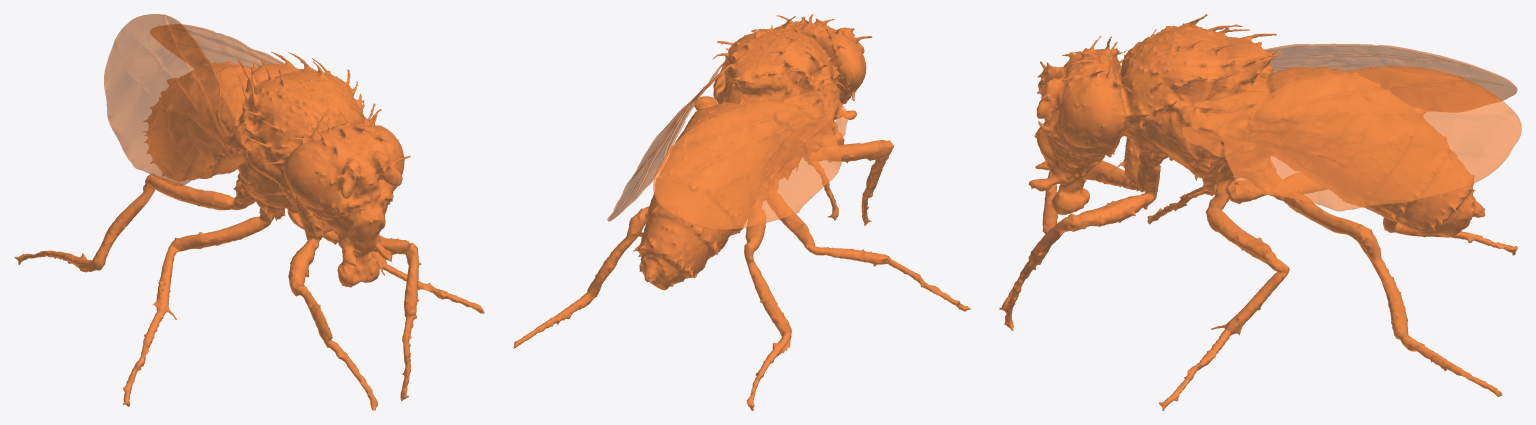
Rendered from fly.glb.
The picture shows the model from 3 angles, left to right: view 1: azimuth 30°, elevation 25°; view 2: azimuth 150°, elevation 25°; view 3: azimuth 270°, elevation 25°; orthographic projection. The views are drawn at different scales.
Visible parts, largest first — view 1: Fly; view 2: Fly; view 3: Fly.
Boxes of the visible parts, box(x1,y1,x2,y2) form: Fly: box(14, 14, 484, 410); Fly: box(513, 14, 970, 410); Fly: box(999, 14, 1521, 410).
Bounding box in the file's own units: 1.75 × 1.28 × 2.03.
